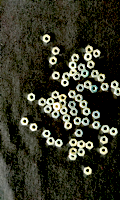nut: (100, 146, 109, 155), (55, 139, 64, 148), (53, 102, 62, 111), (75, 94, 84, 103), (84, 167, 92, 176), (70, 148, 78, 157), (86, 141, 94, 150), (70, 139, 79, 147), (47, 138, 56, 146), (101, 136, 109, 145), (110, 128, 119, 136), (75, 130, 84, 138), (30, 124, 39, 132), (93, 121, 101, 130), (74, 117, 82, 126), (63, 114, 71, 123), (70, 108, 79, 116), (60, 107, 69, 115), (52, 110, 60, 119), (44, 106, 53, 114), (80, 100, 88, 109), (68, 101, 77, 109), (39, 98, 47, 107), (28, 93, 36, 102), (59, 94, 67, 103), (52, 91, 60, 100), (90, 85, 99, 93), (101, 83, 110, 91), (111, 81, 120, 89), (98, 74, 107, 82), (91, 70, 100, 78), (52, 72, 61, 80), (78, 149, 86, 157), (78, 141, 86, 149), (43, 130, 51, 138), (21, 118, 29, 126), (102, 125, 110, 133), (65, 122, 73, 130), (82, 118, 90, 126), (93, 111, 101, 119), (83, 108, 91, 116), (47, 98, 55, 106), (69, 91, 77, 99), (77, 84, 85, 92), (62, 79, 70, 87), (73, 73, 81, 81), (70, 69, 78, 77), (88, 61, 96, 69), (72, 54, 80, 62), (50, 57, 58, 65), (85, 53, 93, 61), (93, 50, 101, 58), (86, 46, 94, 54), (52, 47, 60, 55), (43, 35, 51, 43), (82, 69, 89, 78), (70, 61, 77, 70), (85, 81, 92, 89), (63, 73, 71, 80), (78, 64, 86, 71), (69, 155, 78, 161), (59, 101, 67, 107), (115, 88, 120, 96)
